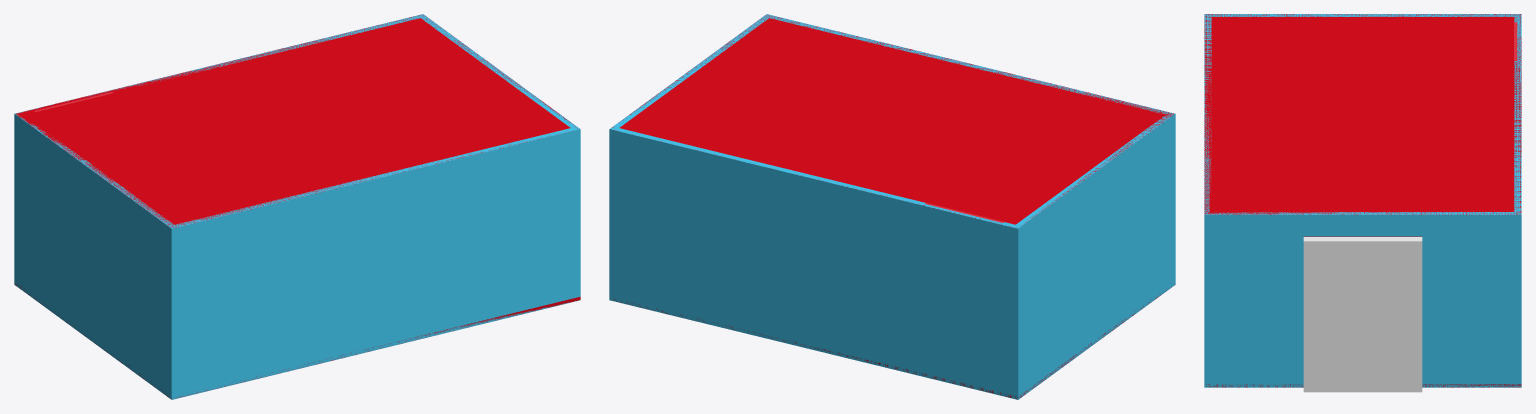
Rendered from room_myakumyaku.fbx.
3 views of the same model, side by side, from view 1: azimuth 30°, elevation 25°; view 2: azimuth 150°, elevation 25°; view 3: azimuth 270°, elevation 25° (orthographic).
Visible parts, largest first — view 1: Room, Ceiling, Baseboard; view 2: Room, Ceiling, Baseboard; view 3: Ceiling, Room, CTRL_Hole.001, Baseboard.
Boxes of the visible parts, x1,y1,x2,y2 form: Room: [14, 14, 580, 399]; Ceiling: [16, 15, 579, 228]; Baseboard: [15, 284, 580, 399]; Room: [609, 14, 1175, 399]; Ceiling: [612, 14, 1173, 227]; Baseboard: [612, 285, 1174, 399]; Ceiling: [1204, 14, 1521, 214]; Room: [1204, 14, 1521, 387]; CTRL_Hole.001: [1303, 237, 1422, 392]; Baseboard: [1206, 384, 1521, 387].
Bounding box in the file's own units: 616 × 250 × 400.
